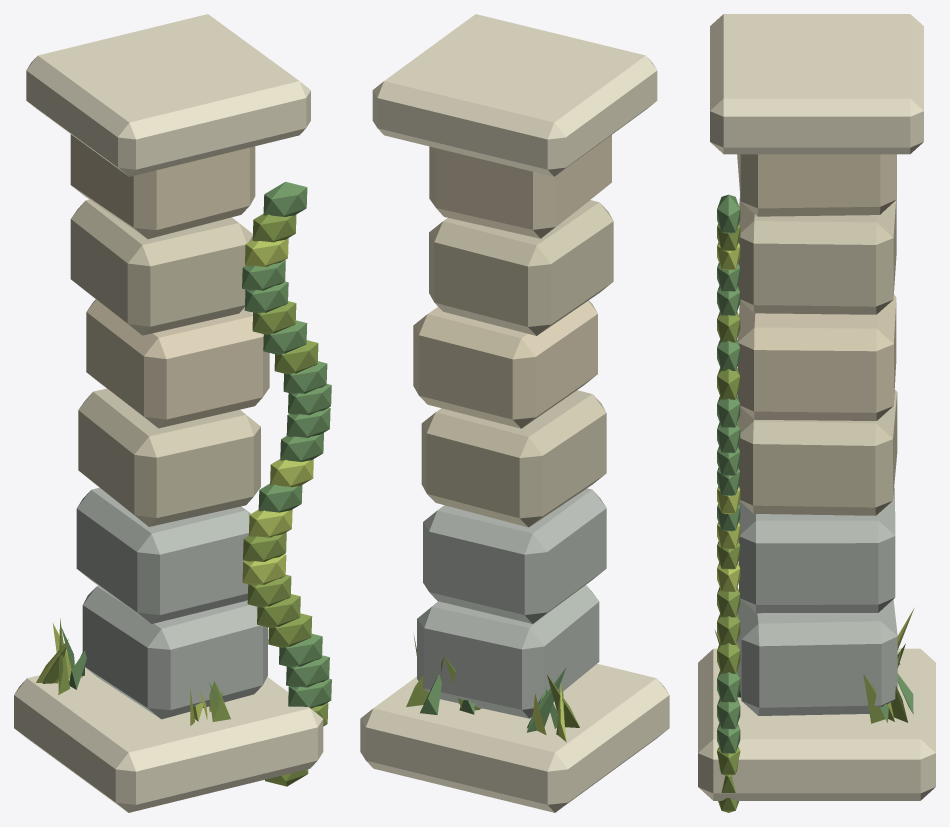
File: pillar_overgrown.glb
3 views of the same model, side by side, from view 1: azimuth 30°, elevation 25°; view 2: azimuth 150°, elevation 25°; view 3: azimuth 270°, elevation 25° (orthographic). The views are drawn at different scales.
Visible parts, largest first — view 1: pillar_overgrown; view 2: pillar_overgrown; view 3: pillar_overgrown.
Part boxes in pixels (x1,y1,x2,y2): pillar_overgrown: [14, 14, 331, 812]; pillar_overgrown: [360, 14, 669, 812]; pillar_overgrown: [698, 14, 935, 812].
Size of the model in its own units: 0.7758 by 2.33 by 0.7.
